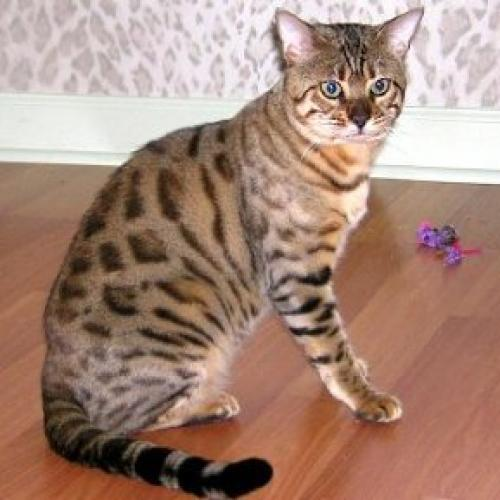bengal: (257, 1, 437, 175)
